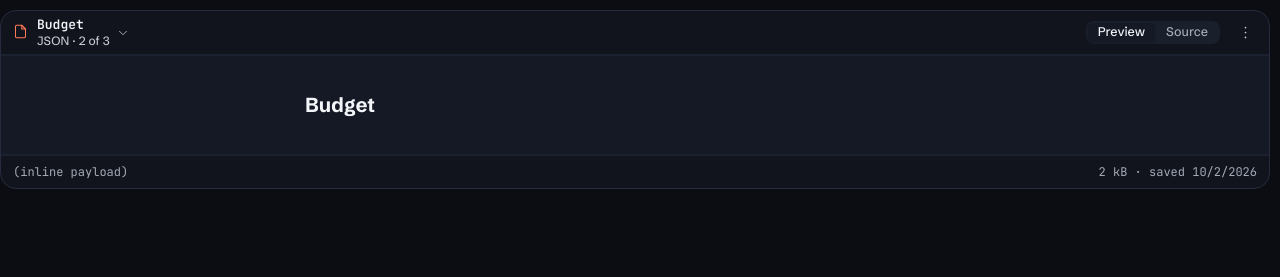
Test case: DocumentPanel: the header switcher › "All artifacts in this chat" returns to the list
Step 1. Click the button "Budget JSON · 2 of 3" → coordinates (83, 32), box [31,10,136,54]
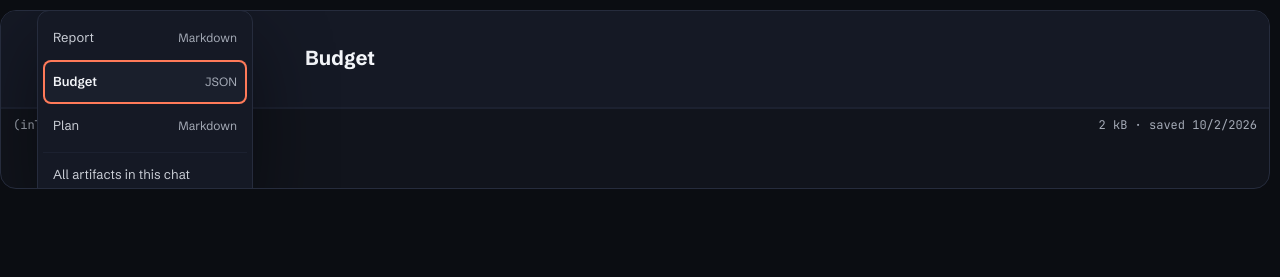
Step 2. Click the option "All artifacts in this chat" → coordinates (145, 174), box [43,152,247,196]
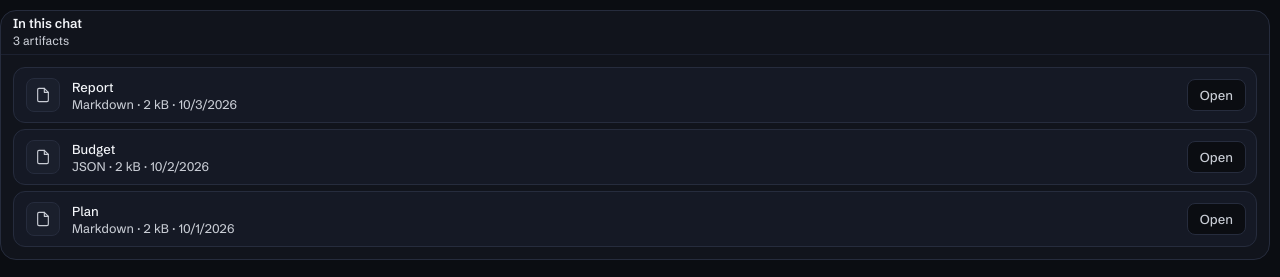
Result: the list named "Artifacts in this chat" is shown
